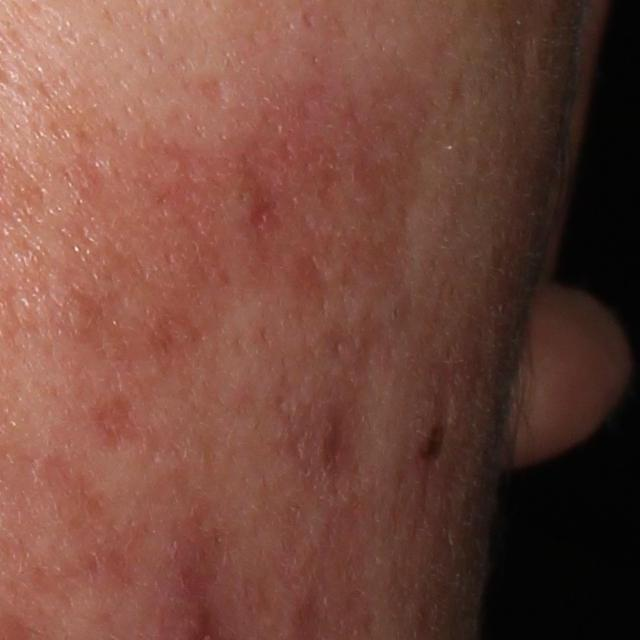atrophic_scar: (85, 392, 149, 457), (189, 70, 230, 109)
nevus: (413, 420, 453, 467)
